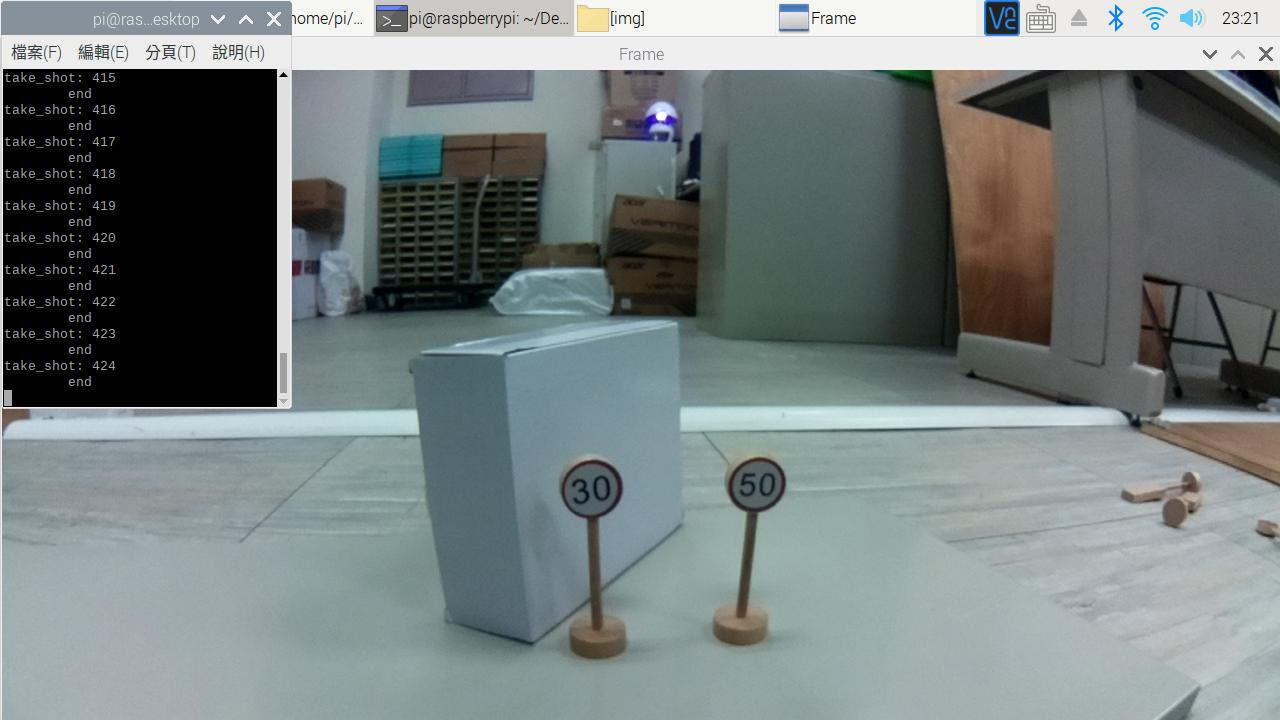Speed30: (543, 447, 638, 533)
Speed50: (718, 448, 792, 527)
